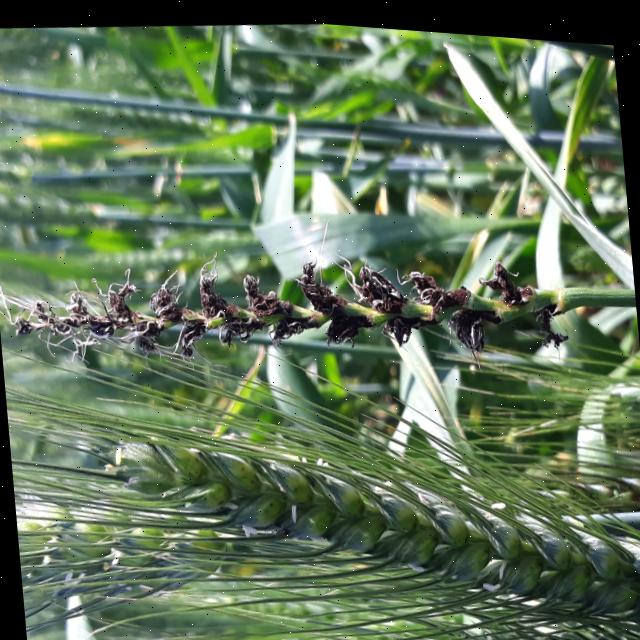loose_charred: (0, 142, 640, 414), (4, 350, 432, 640)
